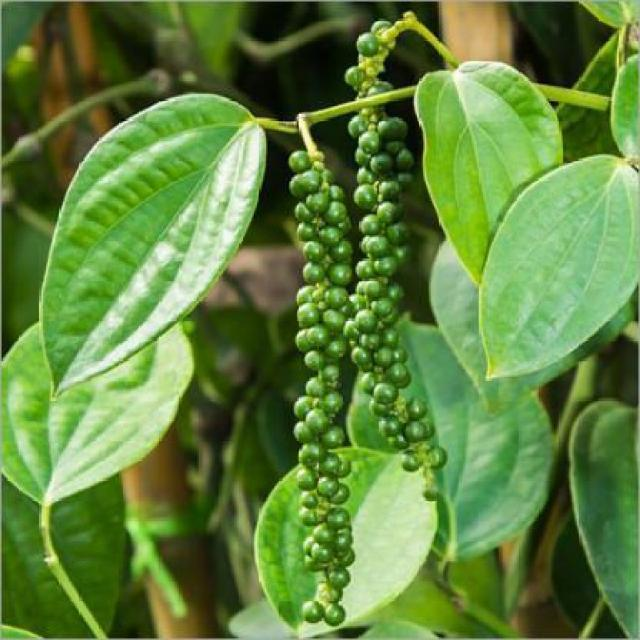UNRIPE: (360, 40, 420, 506), (294, 151, 351, 615)
